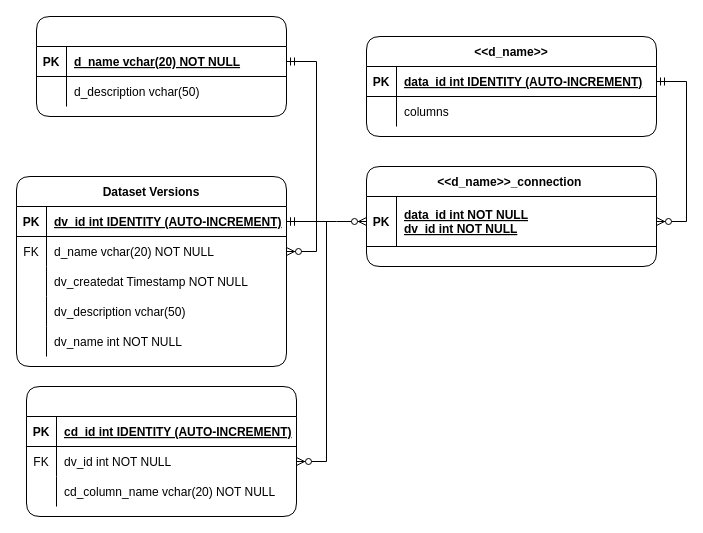
Some shapes in this 703 by 533 pixel diagram are drawn without their labels. The box of each missing label's shape, as (x1, y1, x2, y2) in pixels:
Column Definition: (26, 386, 296, 516)
Datasets: (36, 16, 286, 116)
